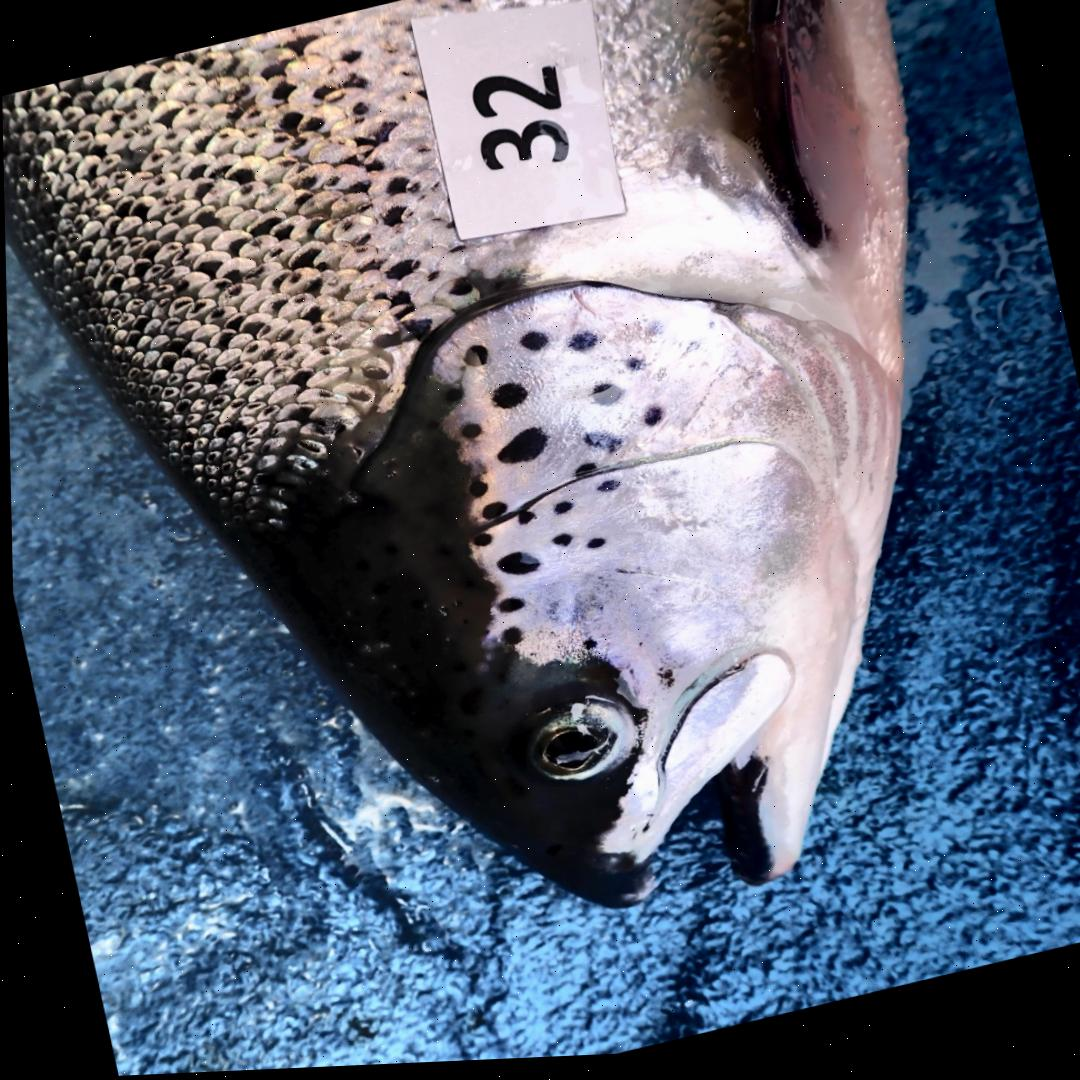spot: (495, 431, 546, 468), (494, 555, 537, 579), (489, 386, 526, 413), (580, 436, 620, 458), (589, 388, 622, 411), (518, 335, 548, 355), (566, 336, 595, 356), (462, 348, 486, 370), (478, 505, 504, 523), (494, 601, 521, 618), (641, 410, 662, 431), (466, 482, 487, 502), (498, 630, 519, 650), (458, 426, 481, 443), (442, 389, 461, 408), (623, 361, 645, 377), (573, 467, 593, 482), (594, 484, 617, 497), (549, 537, 570, 551), (514, 513, 532, 529), (469, 536, 489, 550), (551, 505, 571, 519), (583, 542, 603, 554), (579, 643, 593, 655)
